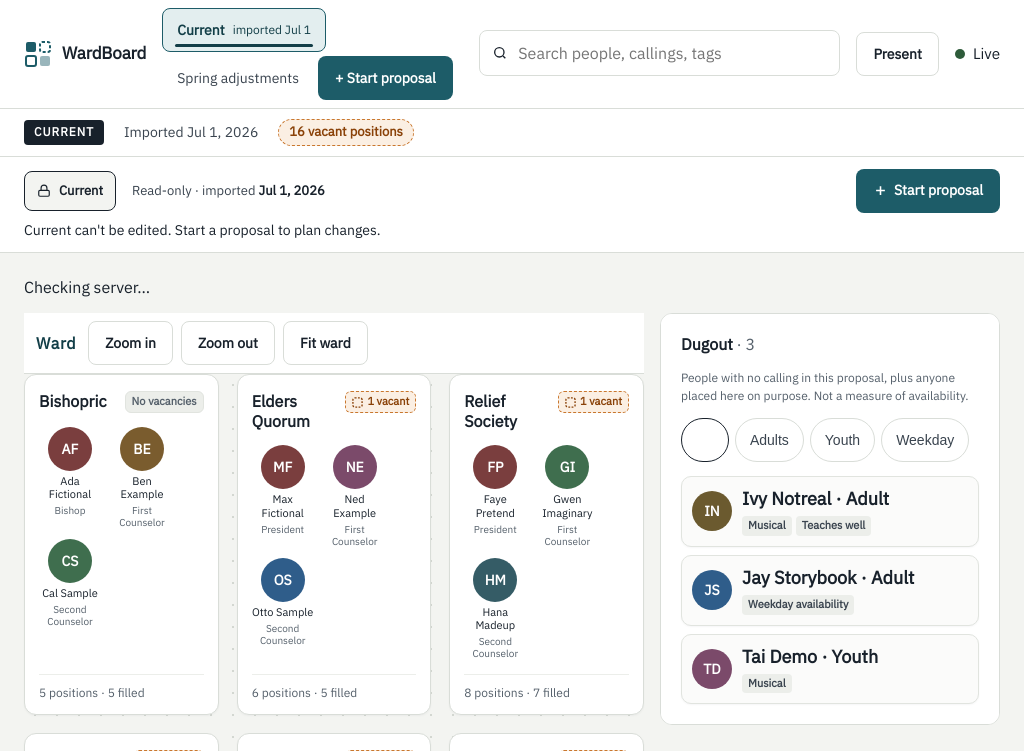
Test: person-panel › clicking a member card opens the inspector for that member
Click the tab "Spring adjustments" at (238,78), box [162,56,314,100]
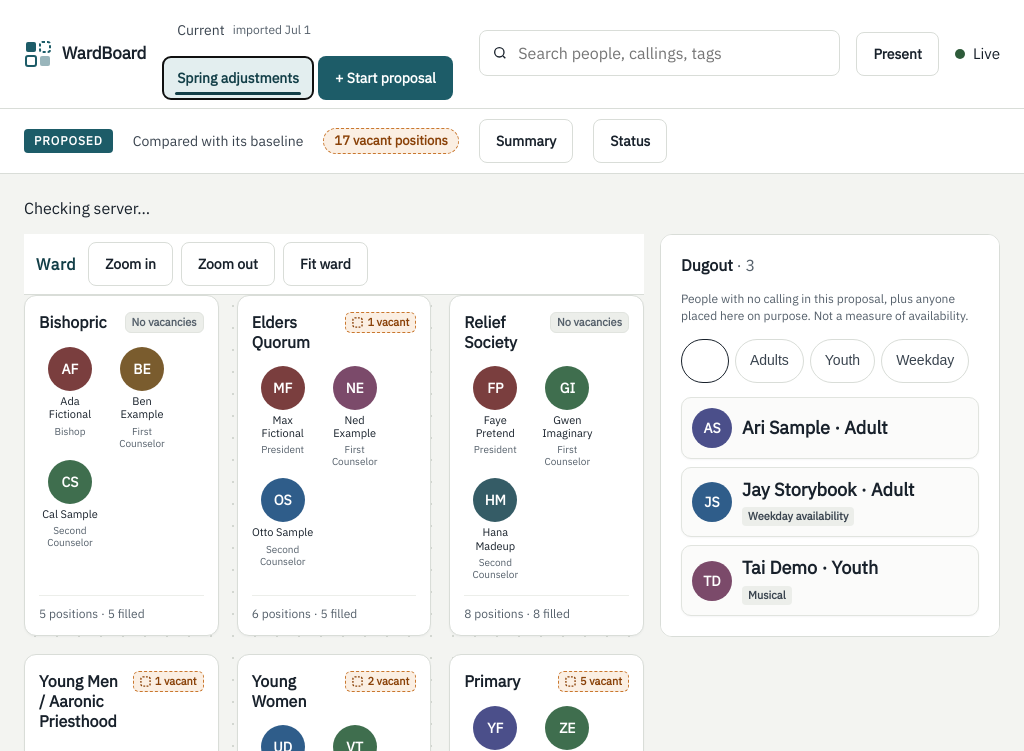
Double-click the element "Relief Society" at (547,465), box [449,295,644,636]
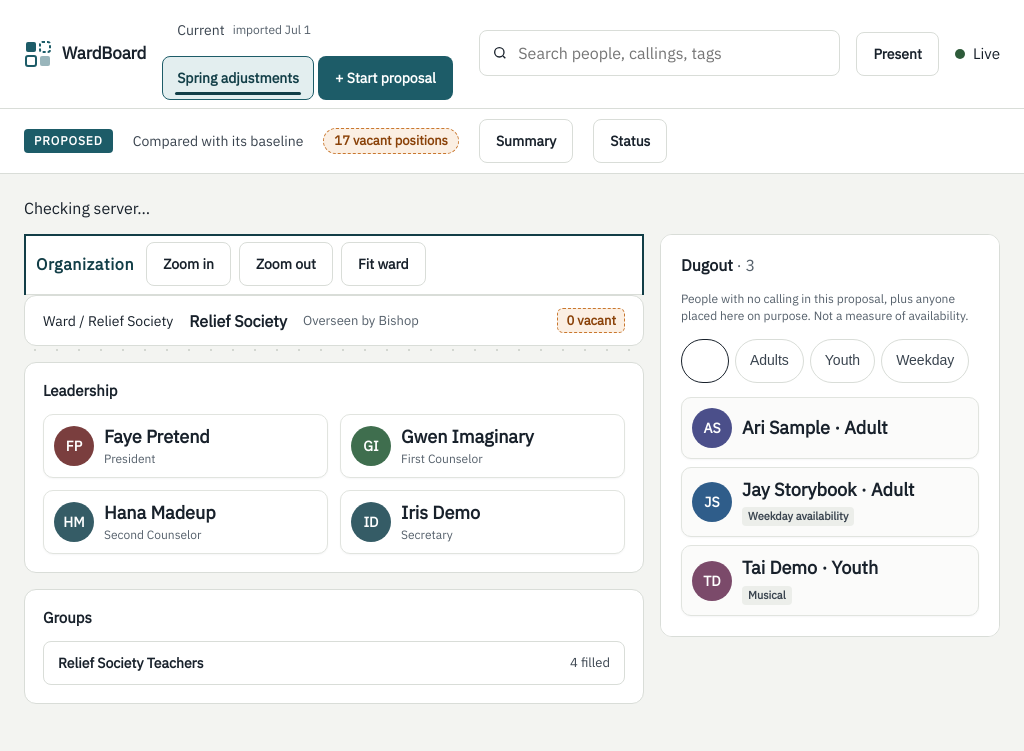
Double-click the element named "Relief Society Teachers" at (334,663), box [43,641,625,685]
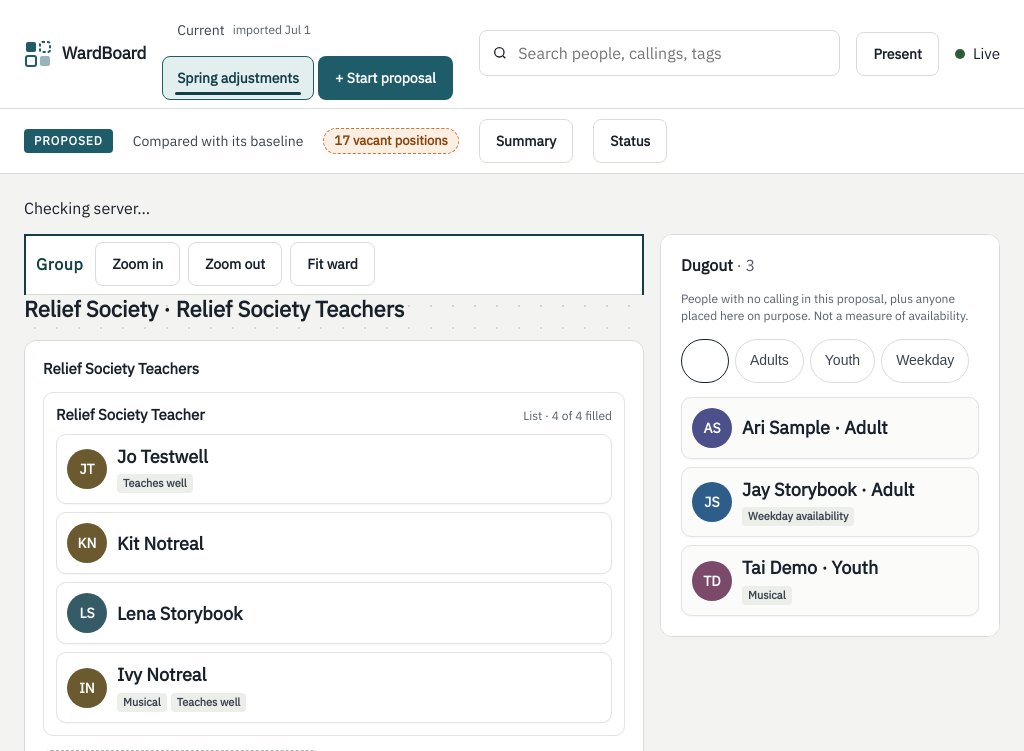
Click the element showing "IN Ivy Notreal Musical Teaches well" at (334,688), box [56,652,612,723]
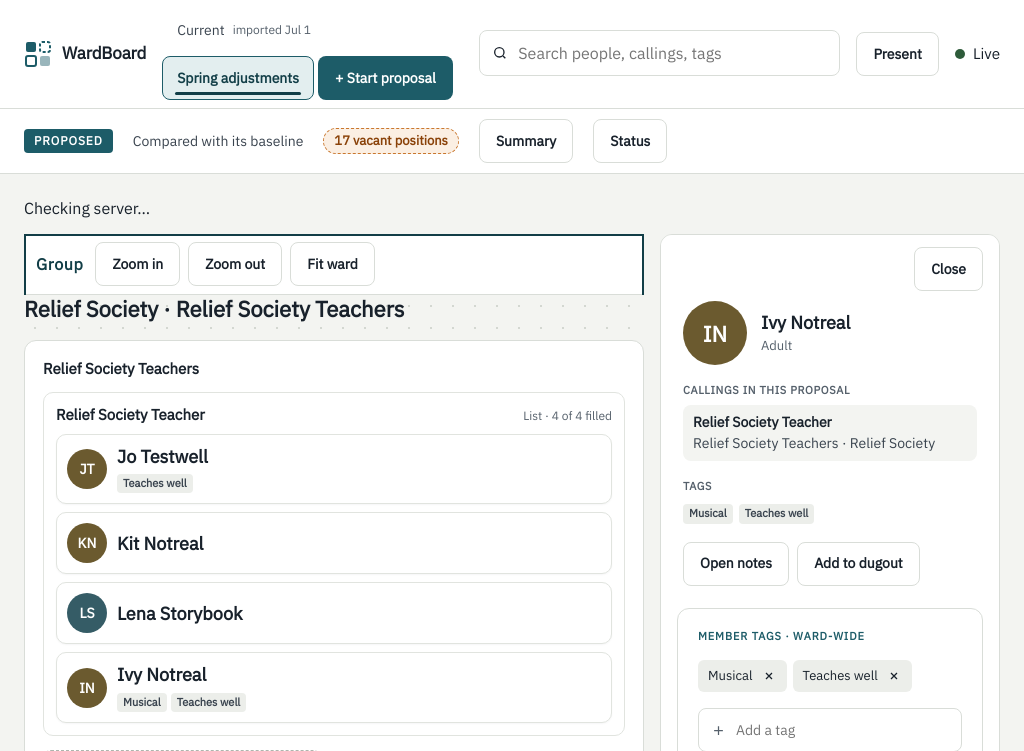
Now the element named "Person: Ivy Notreal" is shown, box [661,291,999,608]
Now the heading "Ivy Notreal" is shown, box [761,311,850,334]
